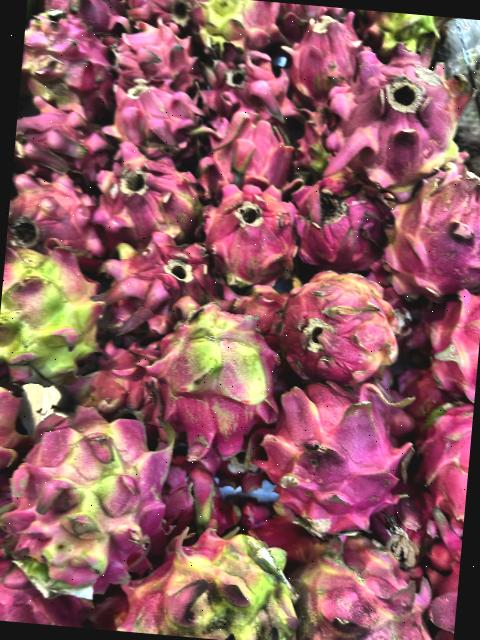buah-naga-belum-matang: (0, 394, 178, 600), (130, 288, 287, 446), (320, 39, 473, 191), (132, 524, 308, 640), (289, 526, 454, 640), (0, 234, 116, 386), (264, 264, 406, 387), (380, 169, 480, 290), (17, 11, 120, 121), (95, 143, 202, 240), (189, 0, 283, 51), (361, 10, 444, 62)
buah-naga-matang: (256, 372, 410, 539), (96, 233, 222, 334), (192, 175, 300, 282), (290, 169, 392, 268), (188, 100, 301, 189), (192, 39, 298, 124), (6, 170, 107, 258), (410, 394, 474, 530), (12, 95, 112, 181), (101, 77, 204, 154), (416, 279, 480, 401), (108, 19, 204, 96), (283, 8, 364, 99), (37, 0, 127, 34), (118, 0, 197, 34)
